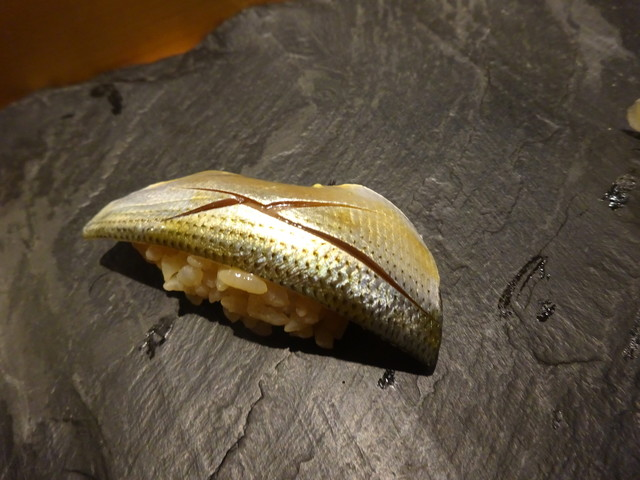spotted-shad: (77, 166, 456, 382)
